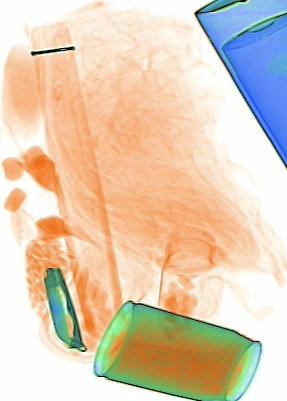knife: (38, 260, 87, 352)
